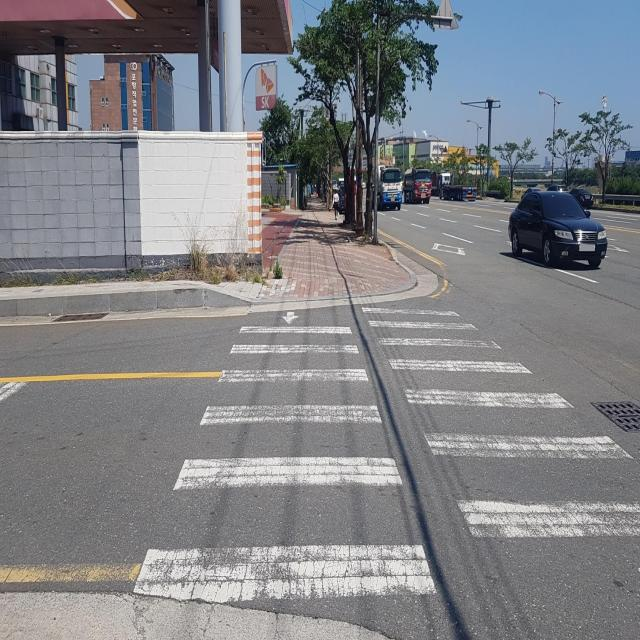횡단보도: (128, 301, 640, 604)
